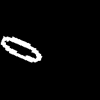chain: (1, 37, 41, 61)
